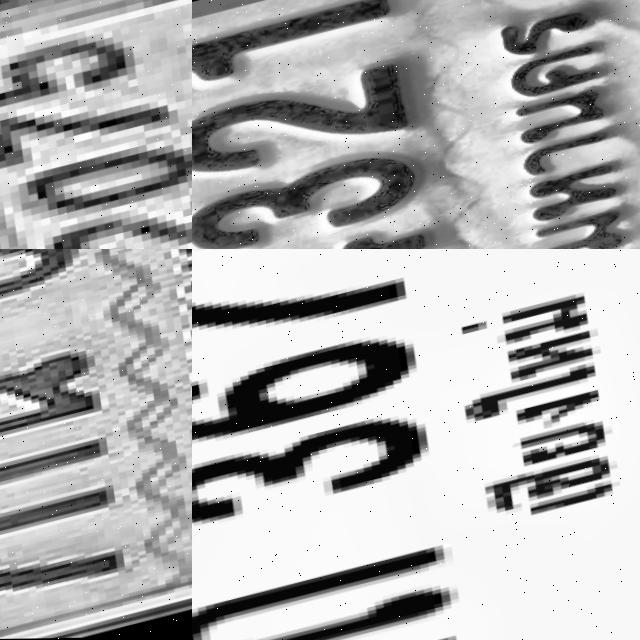license-plate: (192, 249, 640, 640), (192, 0, 640, 249), (0, 249, 192, 640), (0, 0, 192, 249)
